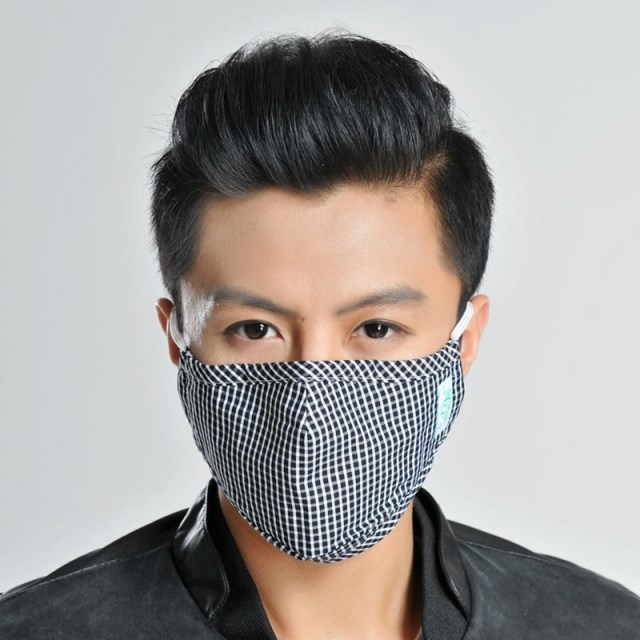face_mask: (187, 178, 457, 543)
